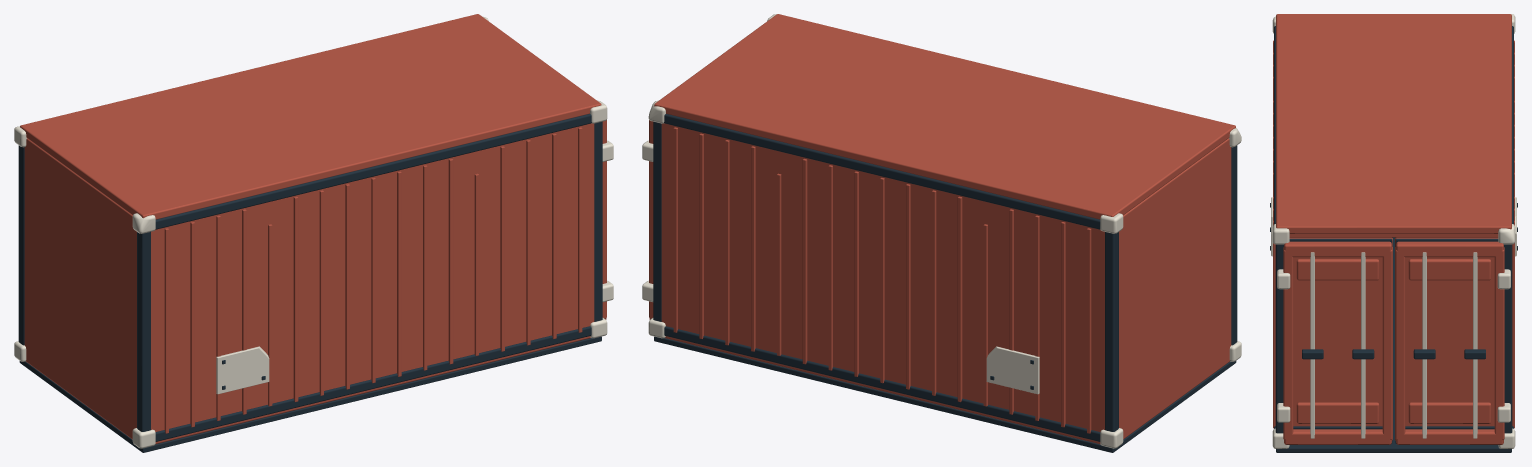
File: container_openable.glb
3 renders of one model, left to right at view 1: azimuth 30°, elevation 25°; view 2: azimuth 150°, elevation 25°; view 3: azimuth 270°, elevation 25°, orthographic. The views are drawn at different scales.
Parts seen in each view (by area): view 1: container_openable_paint, container_openable_ink, container_openable_cream, DoorRight_paint; view 2: container_openable_paint, container_openable_ink, container_openable_cream, DoorLeft_paint; view 3: container_openable_paint, DoorLeft_paint, DoorRight_paint, container_openable_ink, DoorLeft_cream, DoorRight_cream, container_openable_cream, DoorLeft_ink, DoorRight_ink.
Part boxes in pixels (box(x1,y1,x2,y2)): container_openable_paint: box(20, 14, 601, 444); container_openable_ink: box(18, 114, 602, 452); container_openable_cream: box(14, 16, 607, 448); DoorRight_paint: box(602, 120, 606, 319); container_openable_paint: box(654, 14, 1235, 444); container_openable_ink: box(653, 114, 1237, 452); container_openable_cream: box(648, 14, 1241, 448); DoorLeft_paint: box(649, 120, 653, 319); container_openable_paint: box(1273, 14, 1514, 428); DoorLeft_paint: box(1395, 237, 1504, 444); DoorRight_paint: box(1283, 237, 1392, 444); container_openable_ink: box(1270, 26, 1517, 452); DoorLeft_cream: box(1422, 252, 1510, 438); DoorRight_cream: box(1277, 252, 1365, 438); container_openable_cream: box(1271, 14, 1516, 448); DoorLeft_ink: box(1395, 238, 1498, 443); DoorRight_ink: box(1289, 238, 1392, 443).
Size of the model in its own units: 6.26 by 2.97 by 2.94.
